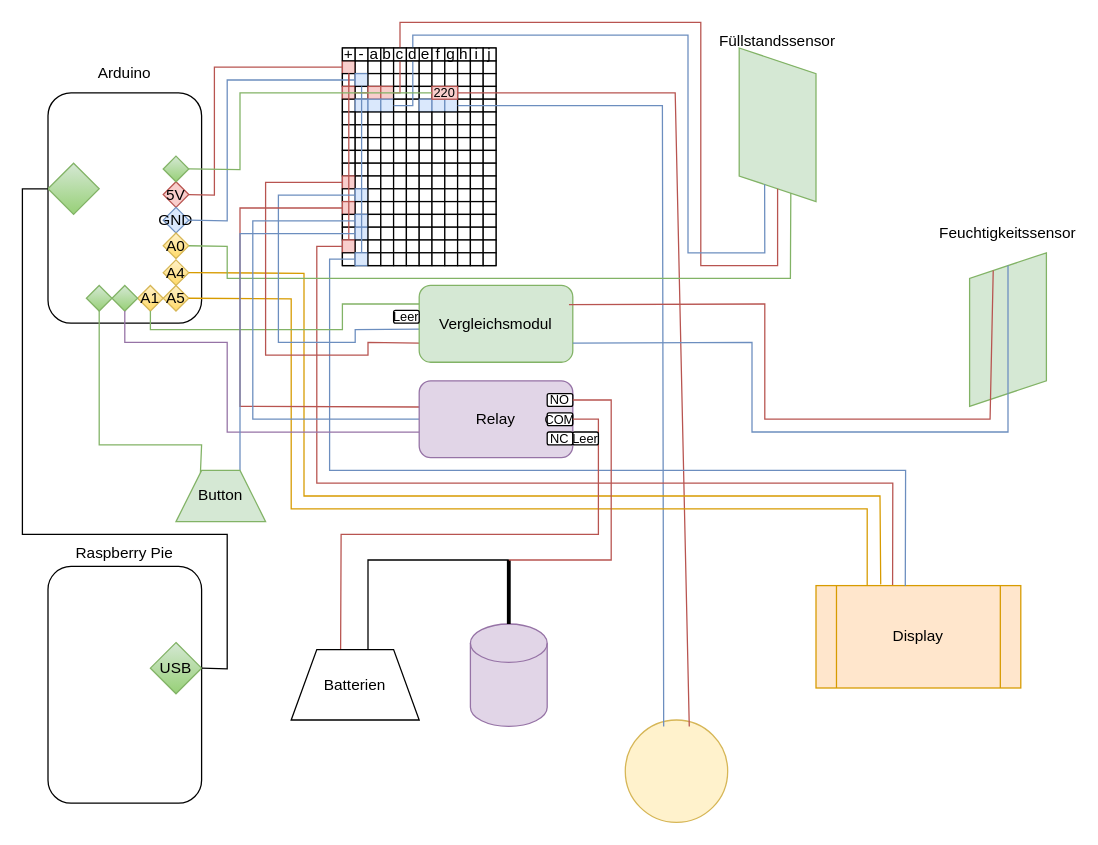
Some shapes in this 1098 by 845 pixel diagram are drawn without their labels. The centre of each missing label's shape, as x and y in pixels:
"D6" goes at point (98, 297).
"D7" goes at point (175, 168).
"D8" goes at point (124, 297).
"LED" goes at point (676, 770).
"Pumpe" goes at point (508, 674).
"USB-B" goes at point (73, 188).
